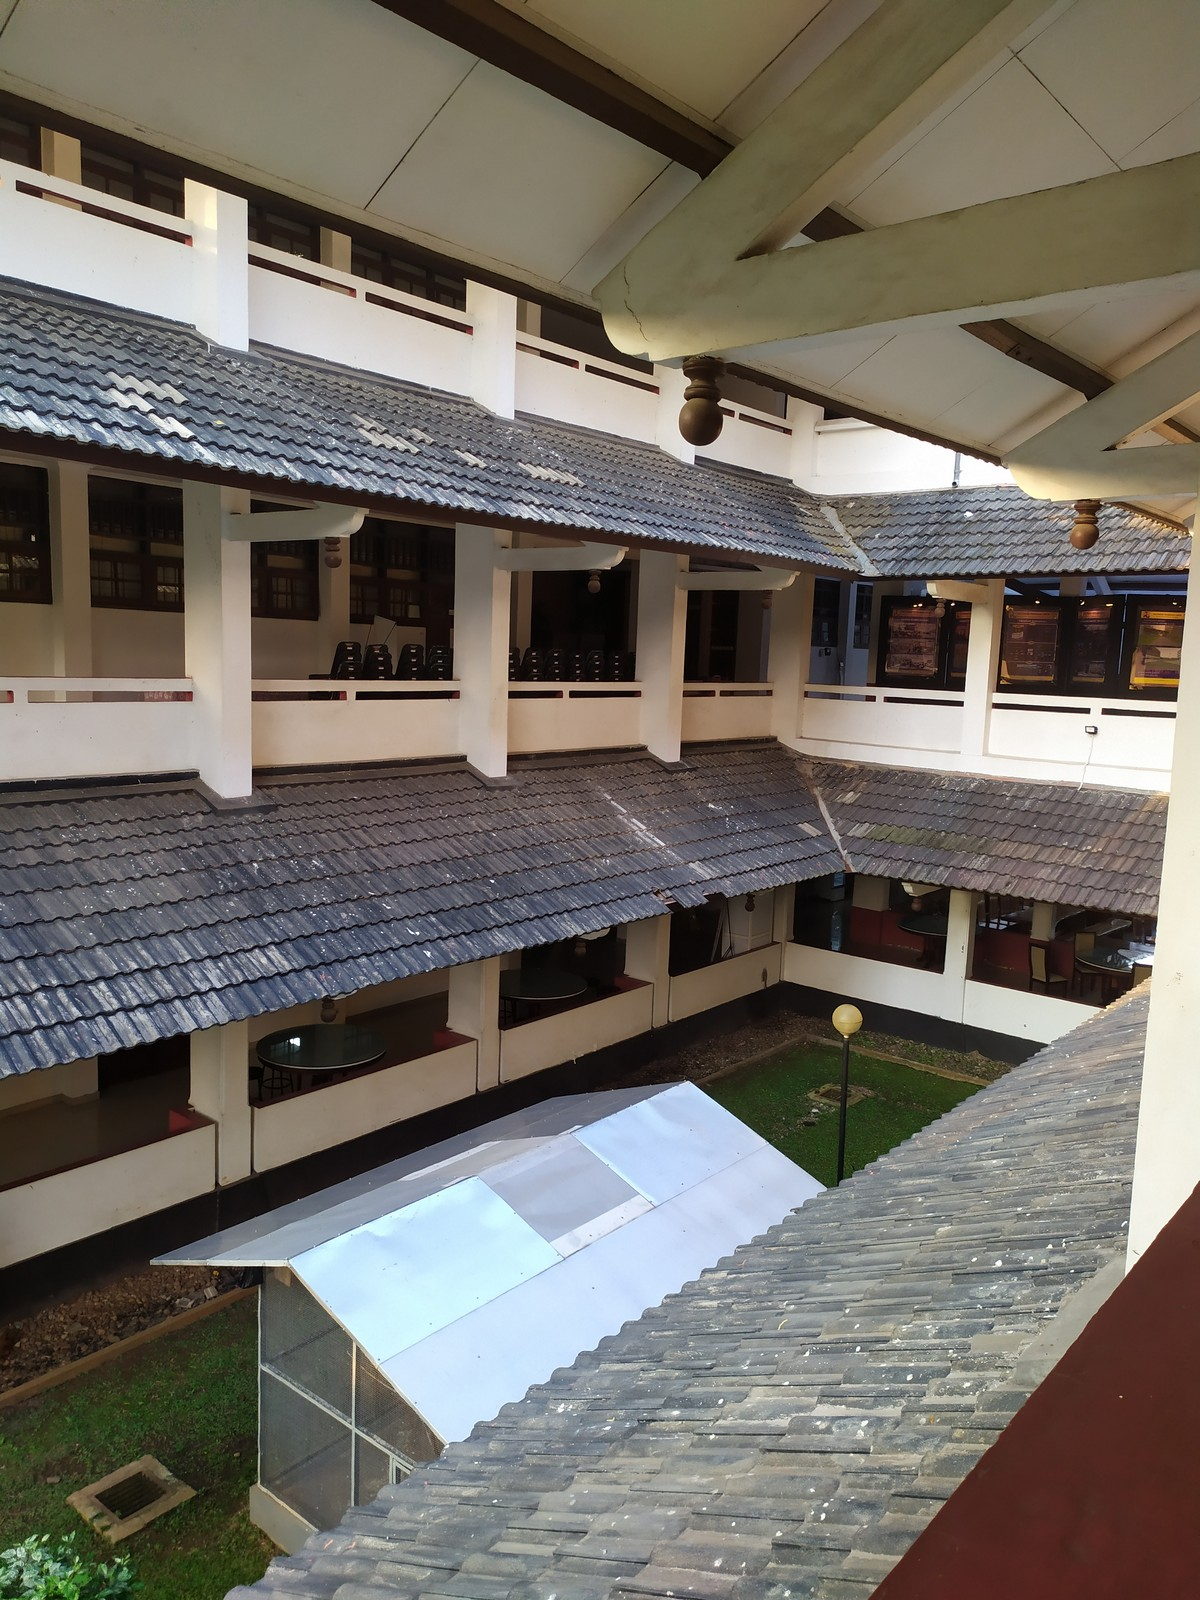concrete column: (175, 462, 263, 808), (447, 520, 522, 782), (180, 170, 265, 362), (629, 548, 696, 769), (187, 1020, 260, 1186), (451, 278, 529, 420), (958, 590, 1008, 765), (441, 957, 505, 1094)
